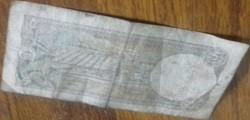5 taka: (13, 6, 232, 119)
